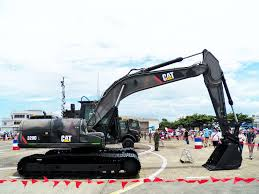excavator: (11, 46, 247, 182)
